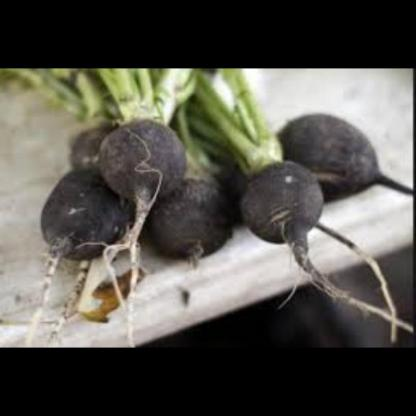redka: (278, 111, 386, 206), (39, 164, 128, 268), (150, 168, 239, 268), (98, 116, 193, 204), (240, 160, 331, 248), (64, 124, 115, 178)
